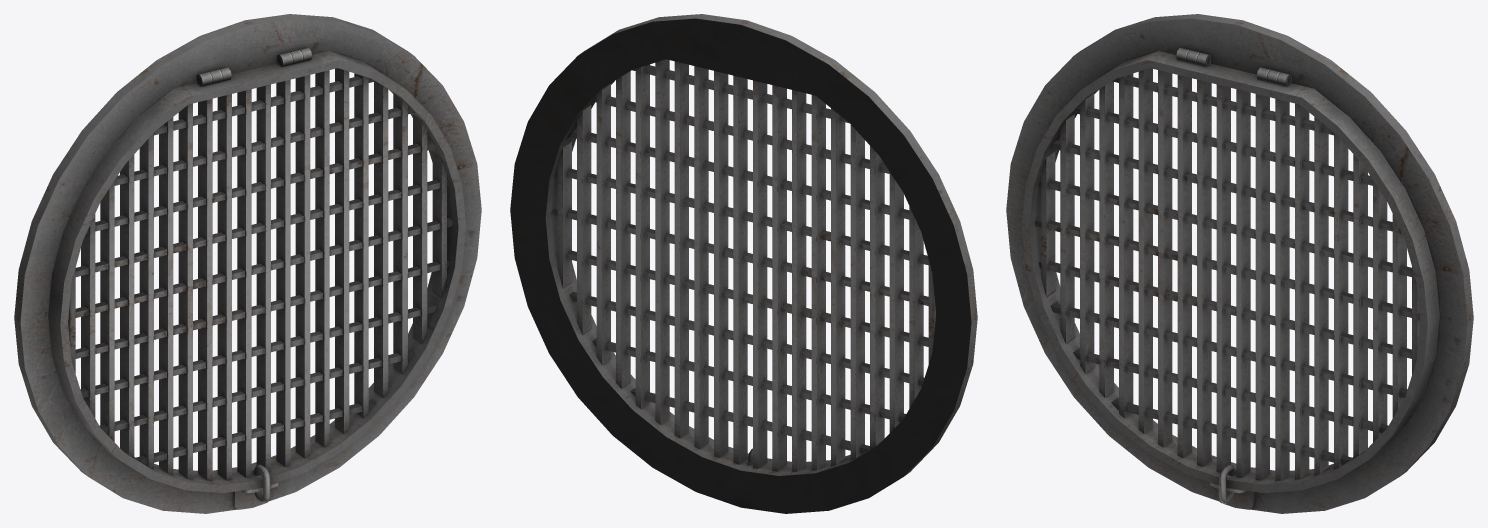
The model's file is p_rus_vent_ext_round_LOD0.obj.
The picture shows the model from 3 angles, left to right: view 1: azimuth 30°, elevation 25°; view 2: azimuth 150°, elevation 25°; view 3: azimuth 330°, elevation 25°; orthographic projection.
Visible parts, largest first — view 1: mtl_p_rus_vent_ext_round; view 2: mtl_p_rus_vent_ext_round; view 3: mtl_p_rus_vent_ext_round.
Part boxes in pixels (<box>): mtl_p_rus_vent_ext_round: <box>14,14,481,513</box>; mtl_p_rus_vent_ext_round: <box>510,14,977,513</box>; mtl_p_rus_vent_ext_round: <box>1006,14,1473,513</box>.
Bounding box in the file's own units: 162 × 162 × 13.9.
